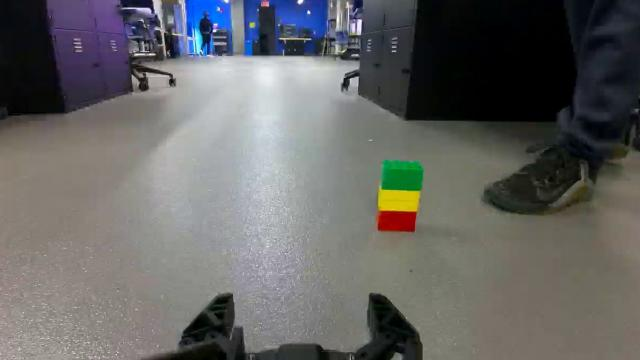lego: (381, 158, 415, 237)
